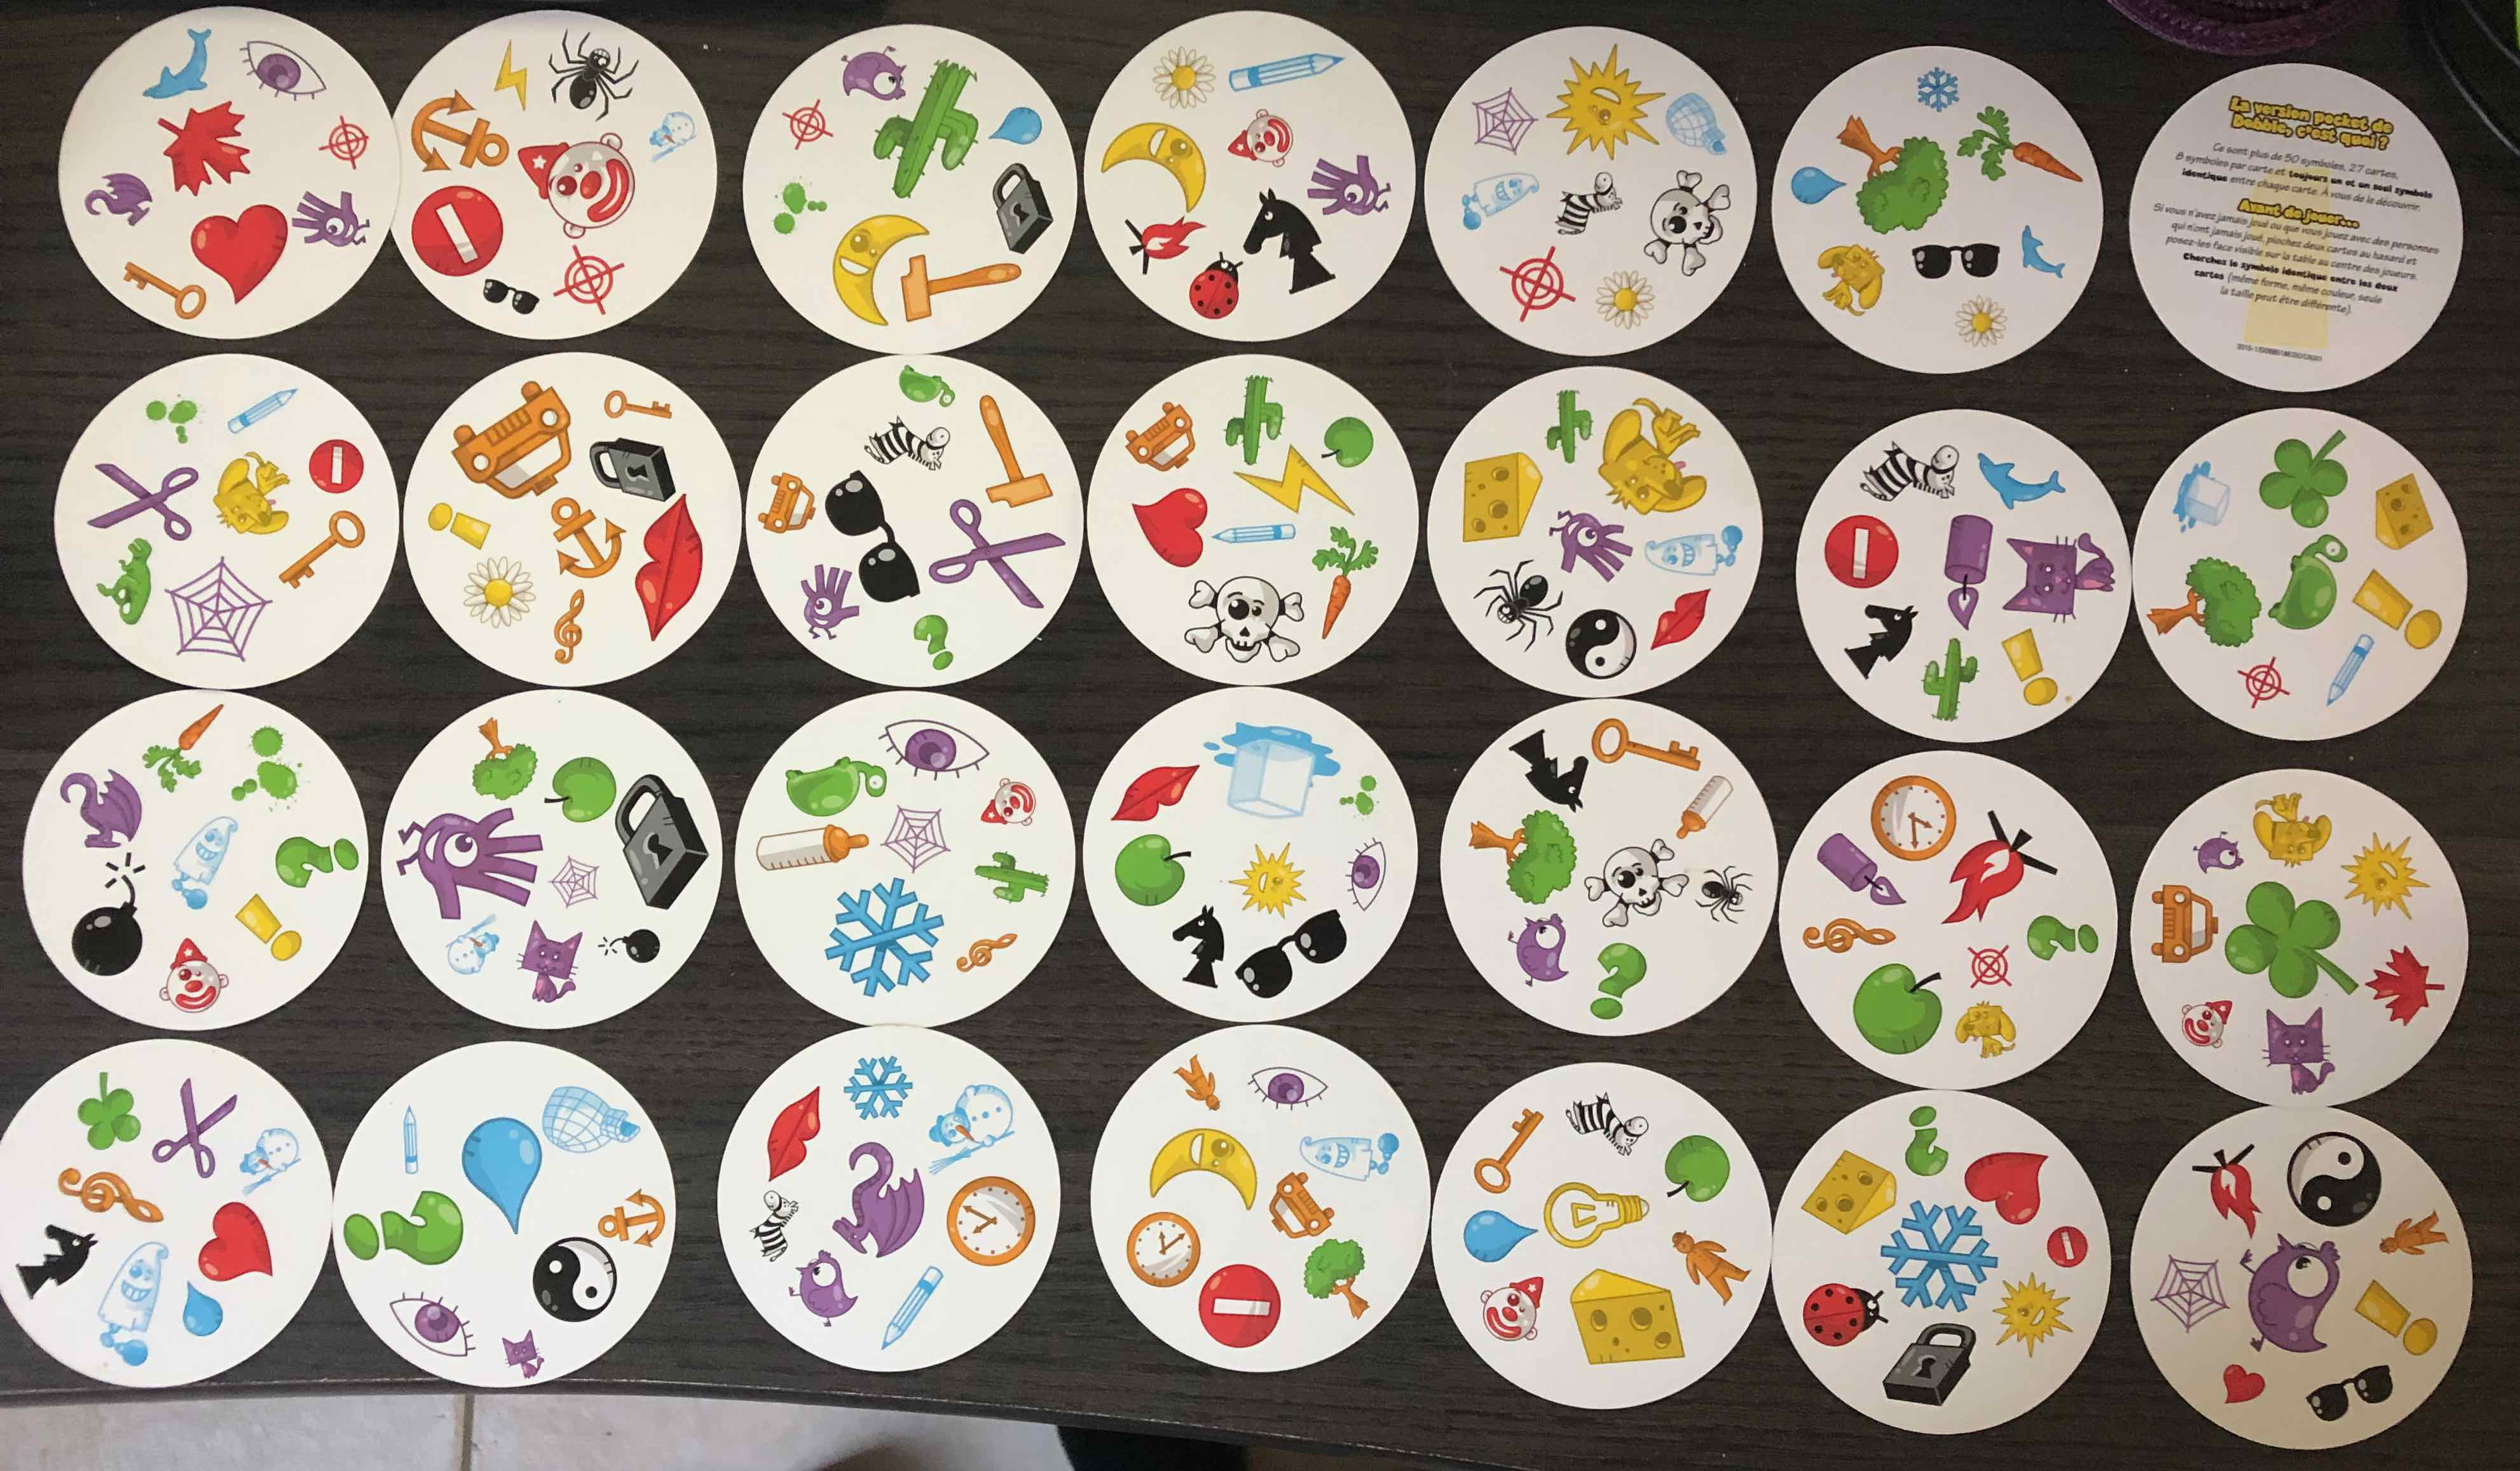ampoule: (1541, 1177, 1650, 1254)
ancre: (408, 93, 510, 179), (536, 492, 627, 580), (592, 1187, 662, 1252)
araignee: (541, 26, 639, 123), (1476, 555, 1562, 653), (1693, 860, 1762, 930)
arbre: (1835, 105, 1951, 242), (1457, 804, 1580, 907), (2143, 552, 2261, 651), (1299, 1236, 1373, 1324), (471, 716, 536, 802)
biberon: (743, 818, 872, 877), (1676, 771, 1737, 841)
bombe: (72, 855, 151, 979), (602, 926, 664, 972)
bonhomme: (1667, 1226, 1748, 1303), (2368, 1208, 2453, 1266), (1172, 1051, 1235, 1116)
bonhomme_neige: (914, 1079, 1019, 1173), (242, 1119, 308, 1191), (448, 916, 504, 977), (643, 102, 697, 165)
bouche: (627, 496, 707, 643), (1102, 757, 1208, 828), (762, 1080, 827, 1180), (1651, 583, 1713, 651)
bougie: (1814, 832, 1909, 909), (1940, 513, 1991, 630)
cactus: (870, 47, 982, 201), (1222, 371, 1285, 466), (1916, 637, 1981, 725), (968, 846, 1051, 907), (1546, 384, 1592, 468)
cadenas: (611, 774, 706, 912), (1879, 1319, 1979, 1411), (988, 163, 1054, 257), (587, 434, 676, 501)
carotte: (1954, 103, 2084, 187), (138, 700, 226, 795), (1312, 525, 1378, 644)
chat: (1998, 527, 2119, 618), (515, 912, 587, 1007), (2263, 1009, 2340, 1094), (496, 1333, 538, 1382)
cheval: (1242, 187, 1347, 291), (1503, 723, 1590, 809), (14, 1219, 98, 1303), (1841, 602, 1914, 685), (1165, 902, 1229, 991)
chien: (1597, 391, 1706, 517), (2247, 786, 2336, 869), (215, 450, 292, 538), (1813, 243, 1886, 319), (1951, 998, 2019, 1058)
cible: (1497, 240, 1573, 324), (552, 242, 627, 315), (313, 114, 371, 173), (2236, 651, 2291, 709), (776, 100, 834, 152), (1963, 942, 2014, 988)
ciseau: (930, 496, 1065, 609), (89, 459, 196, 543), (161, 1073, 242, 1182)
cle: (266, 501, 368, 594), (1590, 711, 1704, 776), (110, 252, 207, 326), (1471, 1103, 1543, 1191), (599, 387, 676, 422)
clown: (513, 128, 636, 243), (152, 933, 231, 1017), (1471, 1266, 1548, 1347), (1226, 105, 1301, 168), (2172, 993, 2242, 1052), (977, 772, 1044, 834)
coccinelle: (1795, 1280, 1893, 1352)
coeur: (186, 201, 287, 306), (1124, 480, 1212, 571), (1956, 1144, 2047, 1226), (196, 1201, 277, 1289), (2222, 1359, 2266, 1413)
crayon: (1222, 40, 1340, 95), (877, 1264, 946, 1352), (2320, 630, 2380, 711), (226, 385, 298, 438), (396, 1103, 424, 1189), (1208, 522, 1299, 545)
dauphin: (140, 25, 212, 102), (1974, 450, 2063, 511), (2016, 226, 2066, 282)
dinosore: (96, 536, 152, 625)
dooble: (392, 806, 543, 923), (1546, 504, 1634, 583), (1308, 152, 1394, 221), (289, 184, 371, 250), (792, 564, 860, 641)
dragon: (828, 1138, 928, 1263), (60, 764, 144, 848), (81, 166, 152, 228)
eclair: (1233, 445, 1355, 522), (487, 37, 534, 119)
fantome: (89, 1238, 173, 1366), (168, 814, 242, 912), (1447, 163, 1543, 236), (1641, 520, 1742, 581), (1291, 1130, 1401, 1182)
feu: (1937, 807, 2054, 928), (2186, 1135, 2266, 1242), (1121, 207, 1207, 277)
feuille: (161, 86, 250, 208), (2364, 940, 2448, 1028)
fleur: (461, 552, 536, 629), (1151, 40, 1219, 112), (1592, 270, 1660, 327), (1951, 291, 2005, 348)
flocon: (820, 879, 947, 998), (1881, 1198, 1998, 1308), (841, 1051, 912, 1121), (1905, 60, 1963, 116)
fromage: (1571, 1264, 1690, 1371), (1797, 1140, 1900, 1240), (1454, 455, 1548, 541), (2371, 471, 2436, 552)
glacon: (1196, 716, 1341, 821), (2165, 459, 2240, 538)
goutte: (452, 1112, 552, 1240), (1462, 1207, 1543, 1270), (175, 1275, 226, 1343), (1788, 165, 1848, 207), (988, 105, 1044, 145)
horloge: (935, 1177, 1042, 1268), (1110, 1201, 1201, 1296), (1870, 772, 1958, 860)
igloo: (541, 1080, 641, 1158), (1658, 84, 1727, 159)
lune: (827, 212, 930, 327), (1098, 116, 1207, 215), (1145, 1126, 1261, 1208)
lunette: (821, 464, 921, 606), (1245, 907, 1348, 1002), (2301, 1359, 2397, 1425), (1911, 243, 2003, 278), (480, 275, 541, 317)
marteau: (972, 392, 1051, 506), (900, 250, 1021, 324)
note: (56, 1156, 168, 1240), (1795, 912, 1895, 954), (548, 587, 588, 664), (956, 928, 1019, 974)
oeuil: (370, 1284, 482, 1368), (233, 32, 333, 103), (877, 718, 988, 779), (1245, 1056, 1333, 1116), (1341, 834, 1390, 914)
oiseau: (2240, 1235, 2345, 1355), (783, 1245, 865, 1334), (1499, 907, 1571, 989), (834, 40, 909, 102), (2191, 827, 2242, 877)
point_exclamation: (2350, 564, 2443, 655), (2350, 1277, 2443, 1362), (228, 890, 299, 963), (422, 483, 494, 557), (1998, 625, 2059, 709)
point_interrogation: (338, 1189, 473, 1284), (271, 832, 364, 891), (2021, 905, 2101, 967), (1590, 942, 1650, 1024), (1897, 1101, 1951, 1180), (907, 611, 961, 678)
pomme: (1856, 953, 1944, 1059), (1112, 830, 1205, 905), (1655, 1128, 1725, 1207), (541, 755, 616, 825), (1320, 415, 1375, 473)
sens_interdit: (406, 179, 504, 280), (1198, 1259, 1282, 1352), (1823, 513, 1900, 590), (305, 434, 363, 497), (2051, 1222, 2101, 1270)
soleil: (1546, 42, 1665, 158), (2345, 830, 2432, 928), (1988, 1266, 2077, 1359), (1217, 839, 1313, 923), (1228, 837, 1306, 921)
tache: (229, 721, 305, 816), (764, 179, 832, 238), (137, 392, 200, 448), (1334, 765, 1382, 823)
tete_mort: (1184, 573, 1305, 665), (1583, 835, 1690, 930), (1643, 168, 1734, 277)
toile: (165, 553, 271, 662), (2147, 1250, 2229, 1334), (1468, 84, 1539, 156), (883, 800, 947, 877), (550, 855, 601, 914)
tortue: (2264, 532, 2352, 630), (778, 753, 888, 814), (898, 362, 954, 412)
trefle: (2222, 877, 2361, 1002), (2257, 422, 2347, 529), (74, 1065, 145, 1156)
voiture: (447, 378, 574, 503), (1114, 394, 1200, 473), (2149, 879, 2219, 968), (1263, 1165, 1336, 1247), (755, 471, 818, 536)
ying_yang: (2285, 1130, 2382, 1229), (531, 1231, 615, 1322), (1562, 608, 1637, 679)
zebre: (1858, 438, 1960, 503), (862, 415, 965, 475), (1564, 1091, 1651, 1161), (1553, 166, 1625, 240), (736, 1193, 806, 1268)
